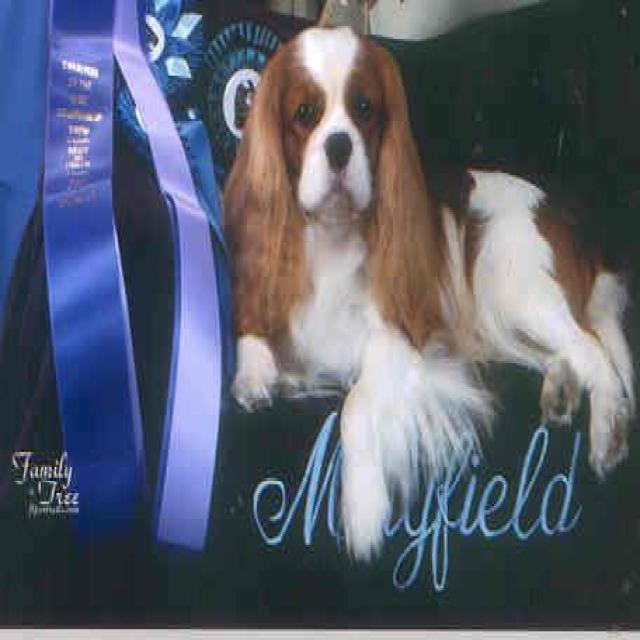blenheim_spaniel: (219, 18, 639, 566)
